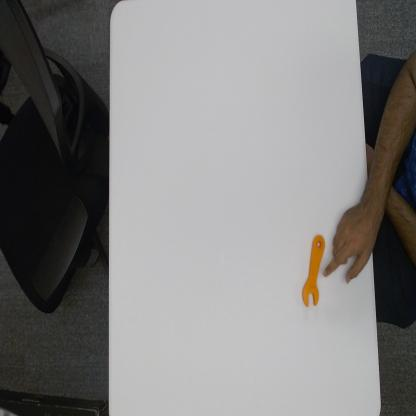Hand: (323, 198, 375, 286)
Screwdriver: (300, 233, 325, 312)
